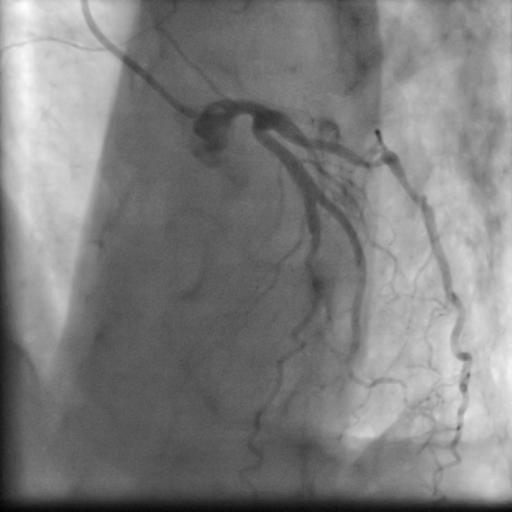Stenosis: (357, 147, 388, 177)
